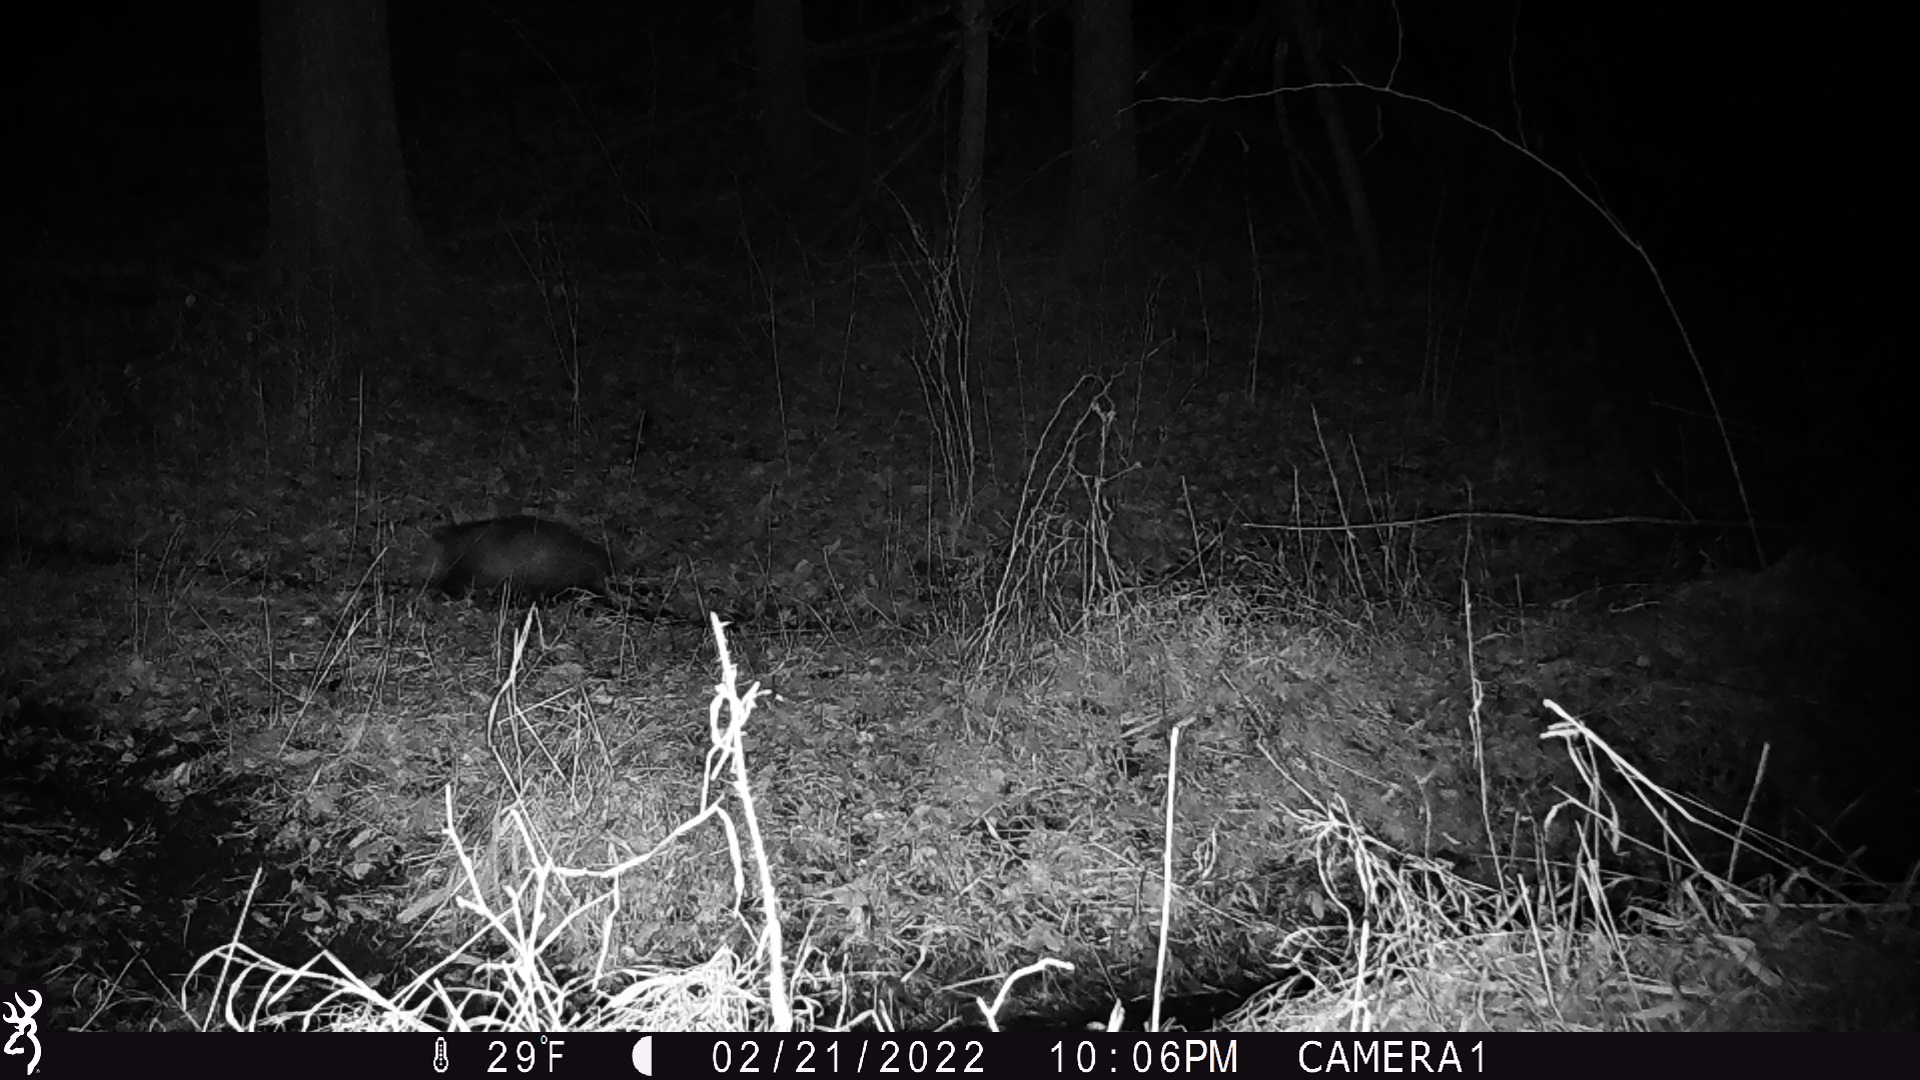Possum: (397, 512, 713, 600)
